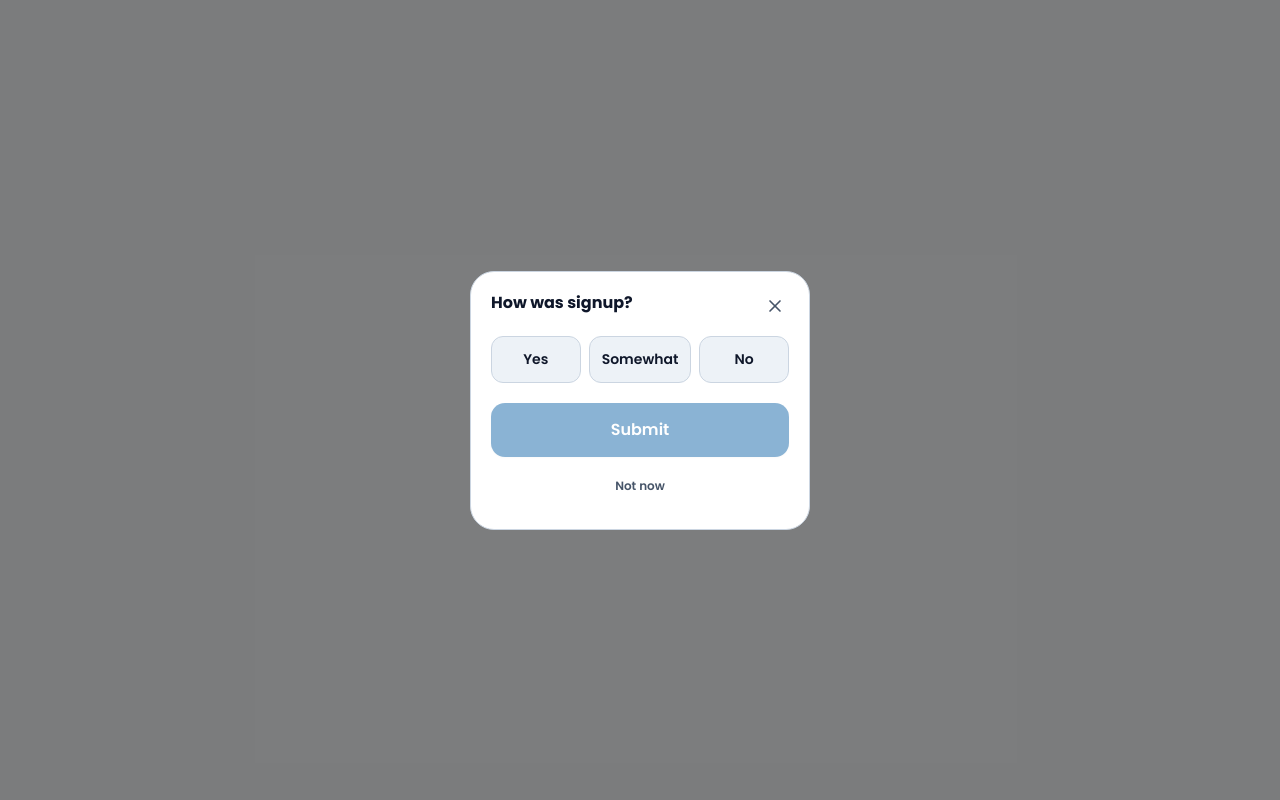
Test: PilotCommunicationPopup — athlete surface › Submit is disabled until an option is selected, then enabled
Expected: the dialog is shown, [470,270,810,530]
Expected: the button "Submit" is disabled, [491,402,789,456]
Click the radio button labelled "Somewhat" at (640,359), box [589,336,691,382]
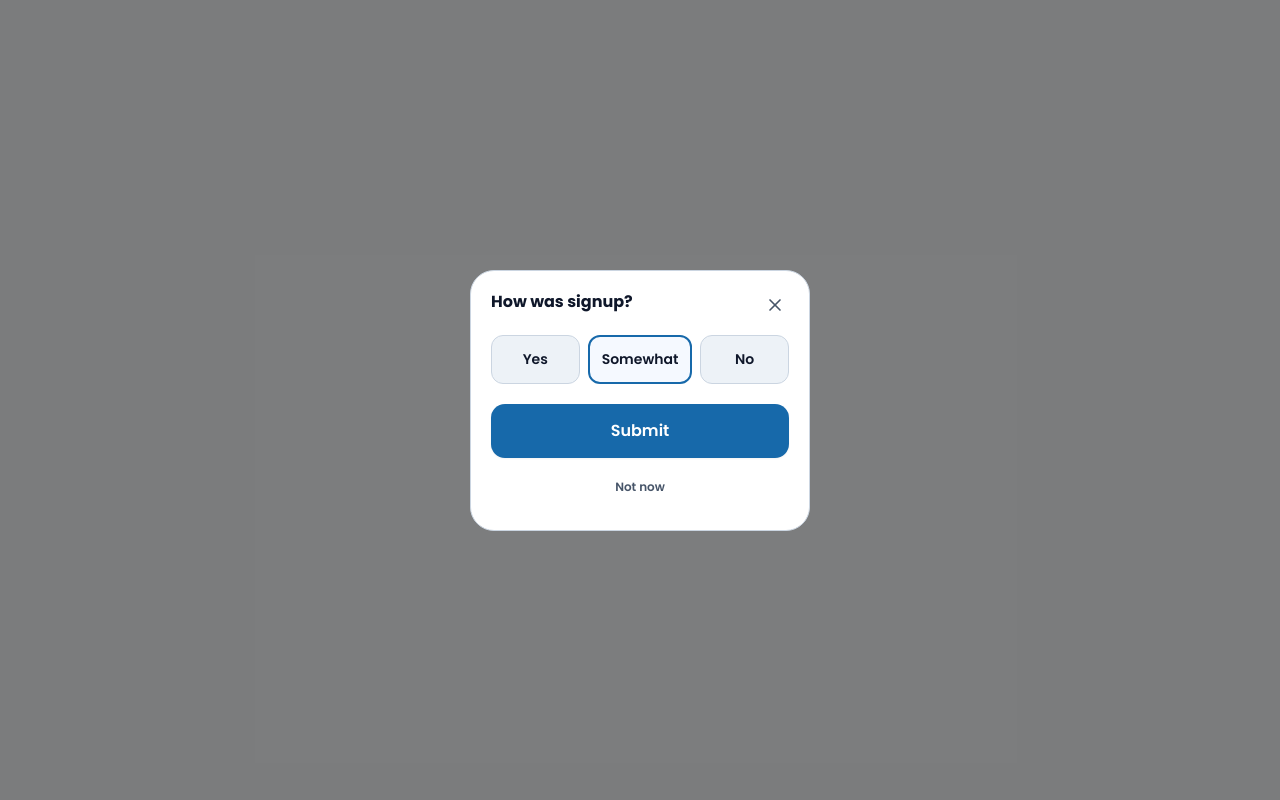
Expected: the button "Submit" is enabled, [491,404,789,458]
